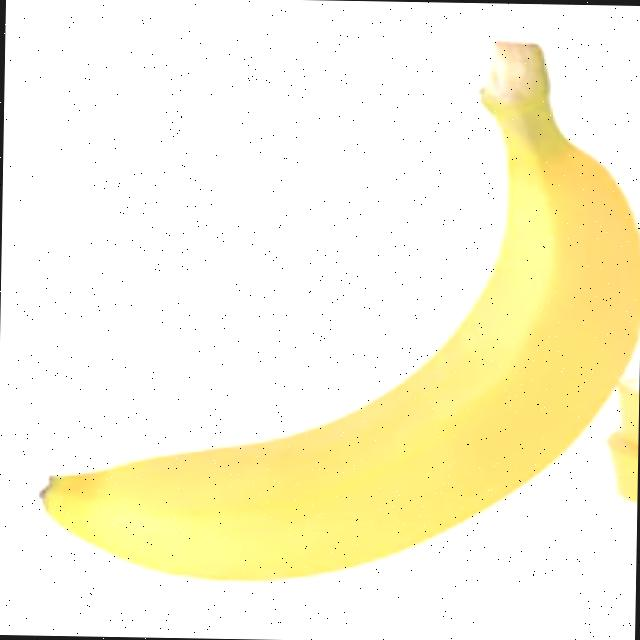Ripe: (36, 28, 640, 593)
